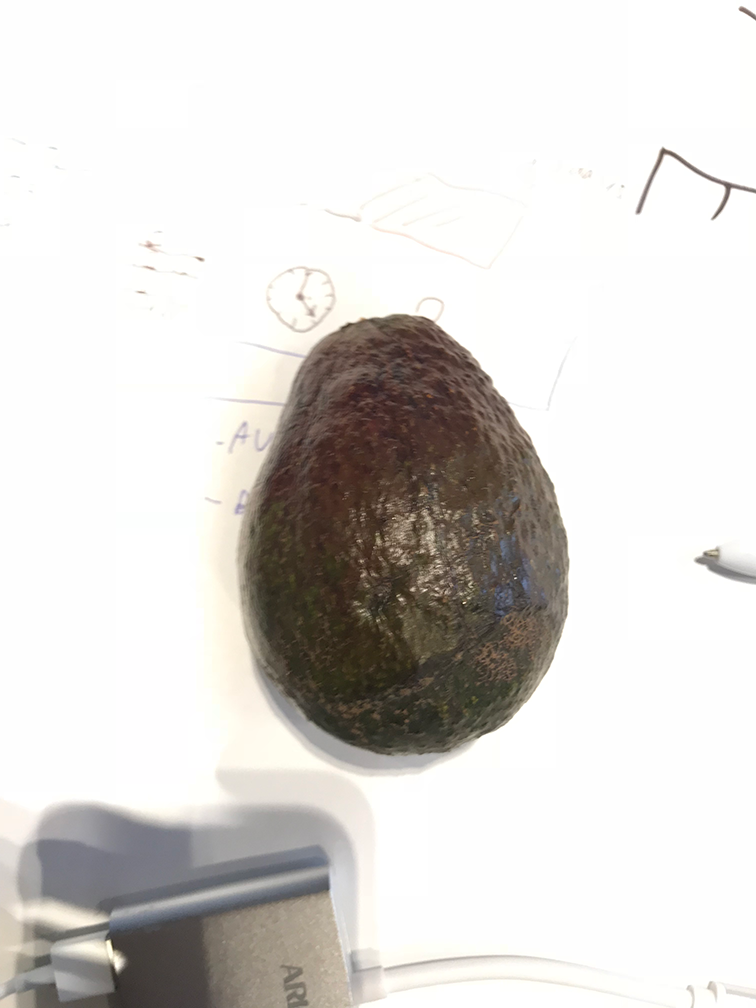avocado: (230, 302, 570, 776)
